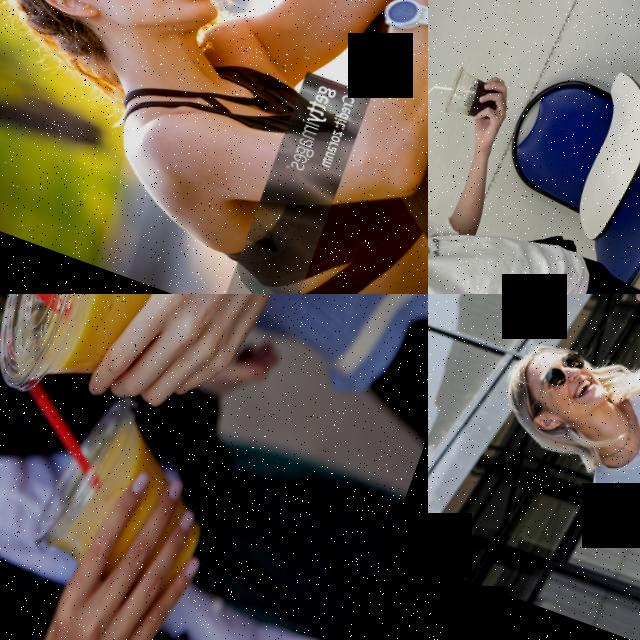cup: (22, 381, 240, 618), (0, 294, 197, 430), (442, 64, 507, 128)
